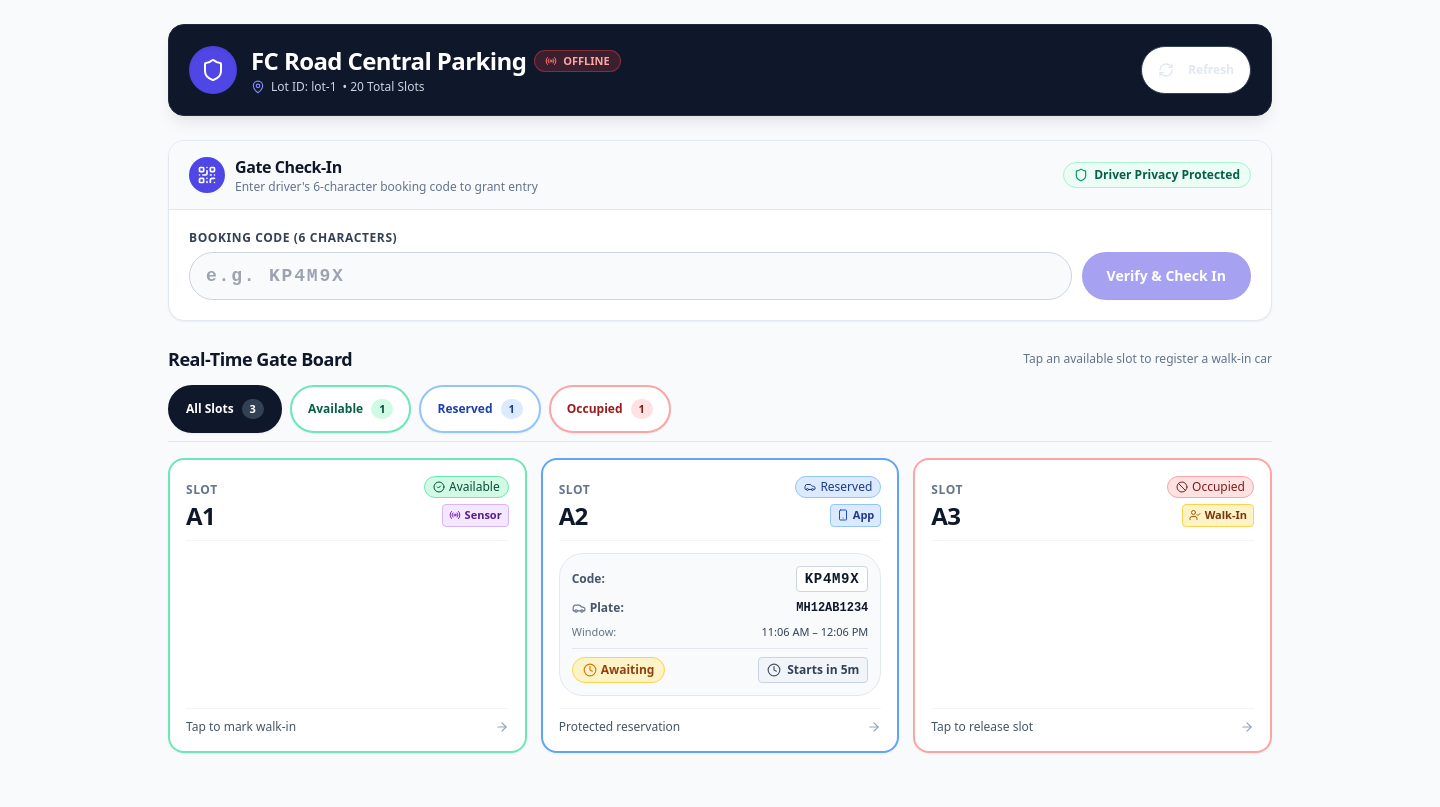
Test case: Guard Console UI Suite (Stage 6) › displays clear 404 error when booking code is not found
Expected: the heading "FC Road Central Parking" is shown, [251,45,526,77]
Type "999999" into the field labelled "Booking Code (6 Characters)" at point(630, 276), box [189,252,1072,300]
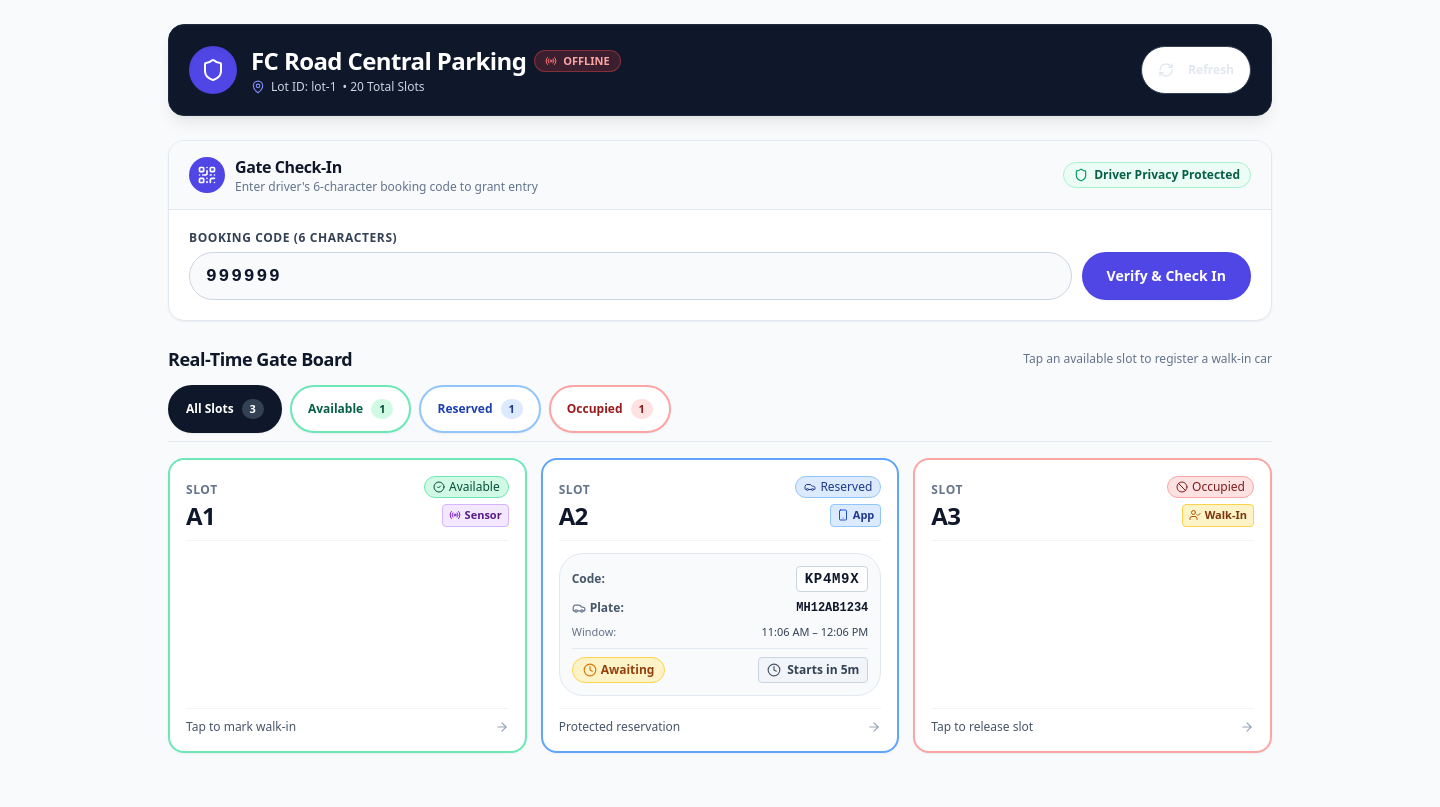
Click the button "Verify & Check In" at point(1166, 276), box [1082,252,1251,300]
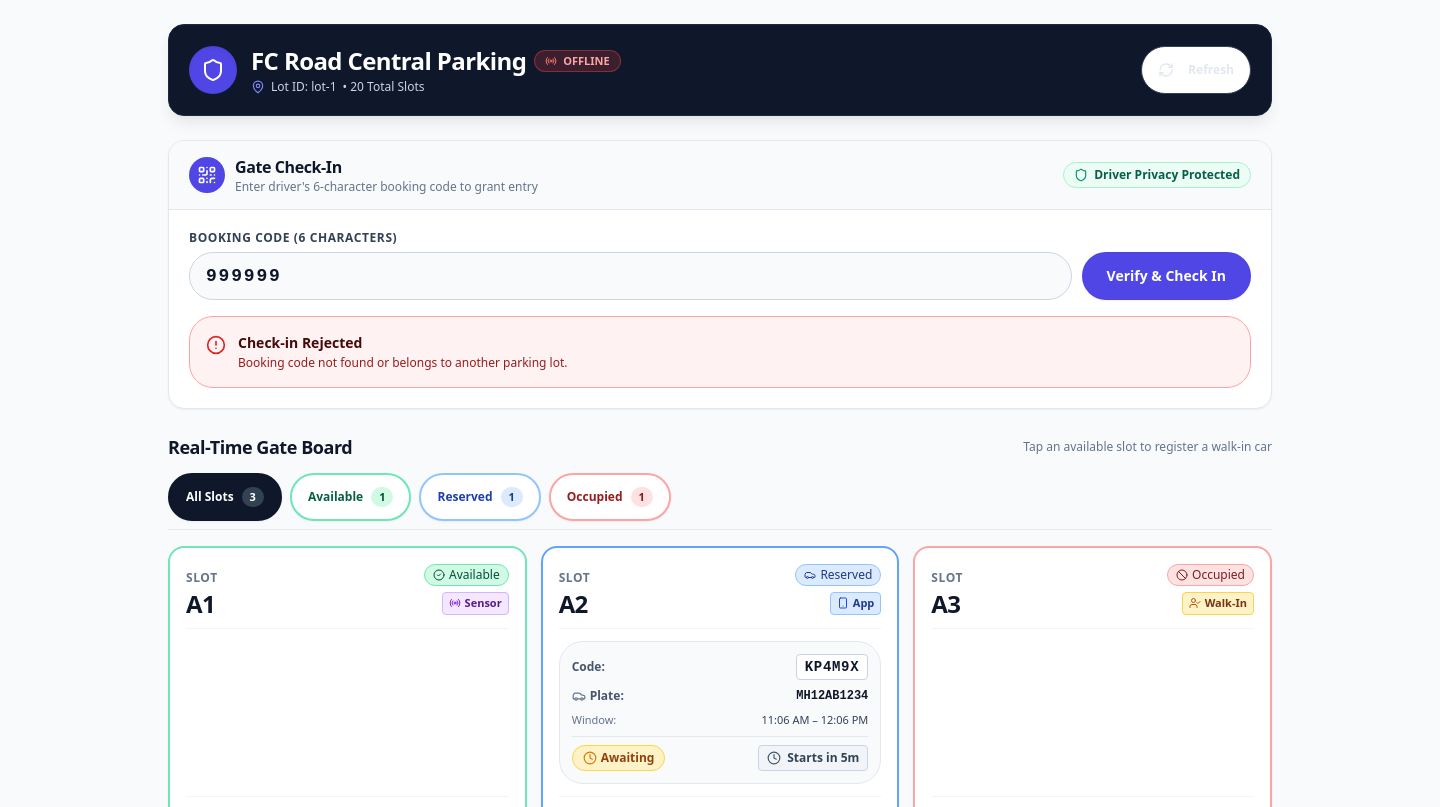
Expected: the text "Check-in Rejected" is shown, [238,333,362,352]
Expected: the text "Booking code not found or belongs to another parking lot." is shown, [238,355,568,371]
